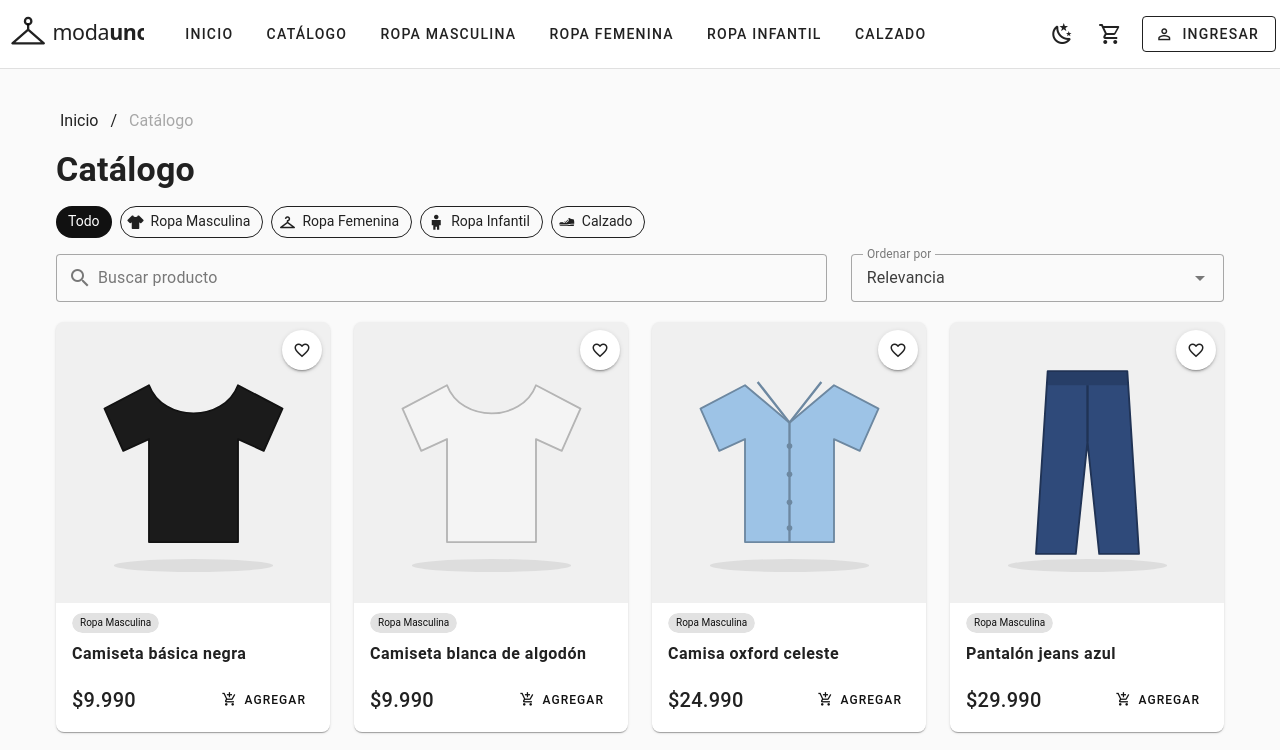
it: Catálogo › abre el detalle de un producto
The image size is (1280, 750).
What coordinates should you click on to do the following:
click the link "Camiseta básica negra"
I would click on:
 (159, 654)
Its box is [72,644,246,663].
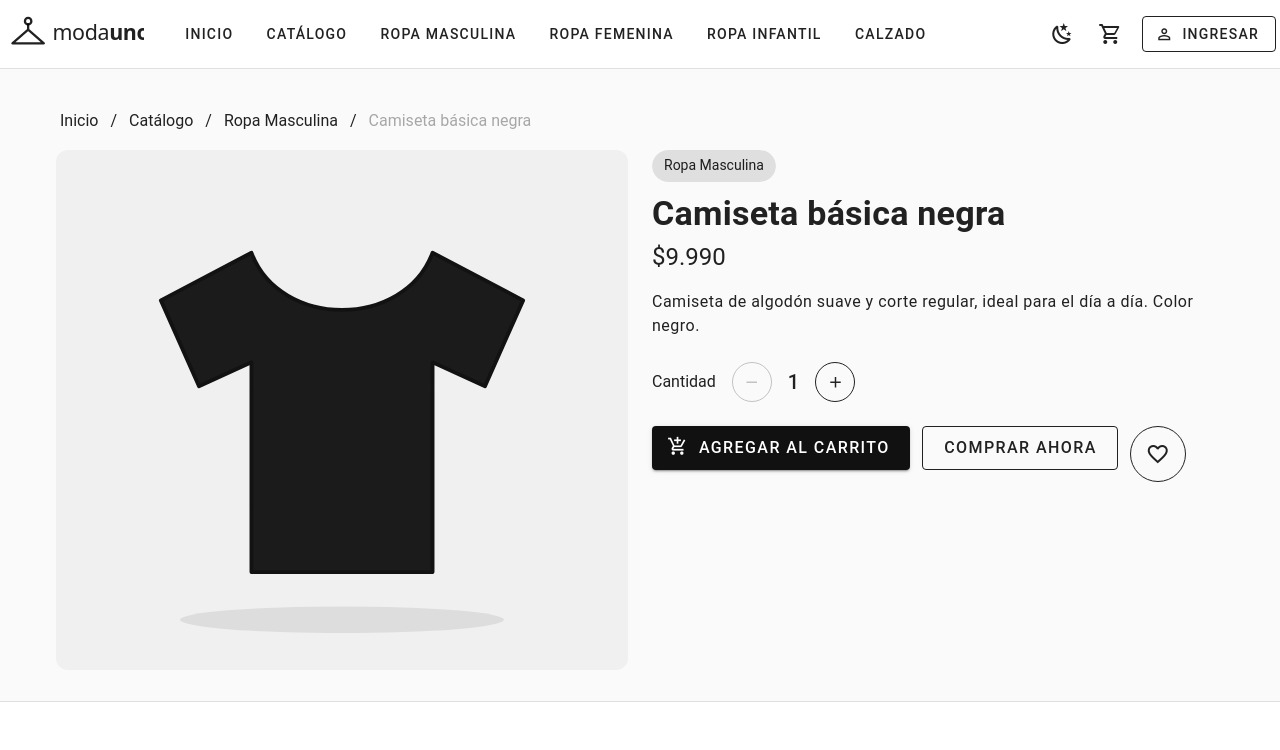
expect the button with test id "detail-add-btn" is shown: met, box [652,426,910,470]
